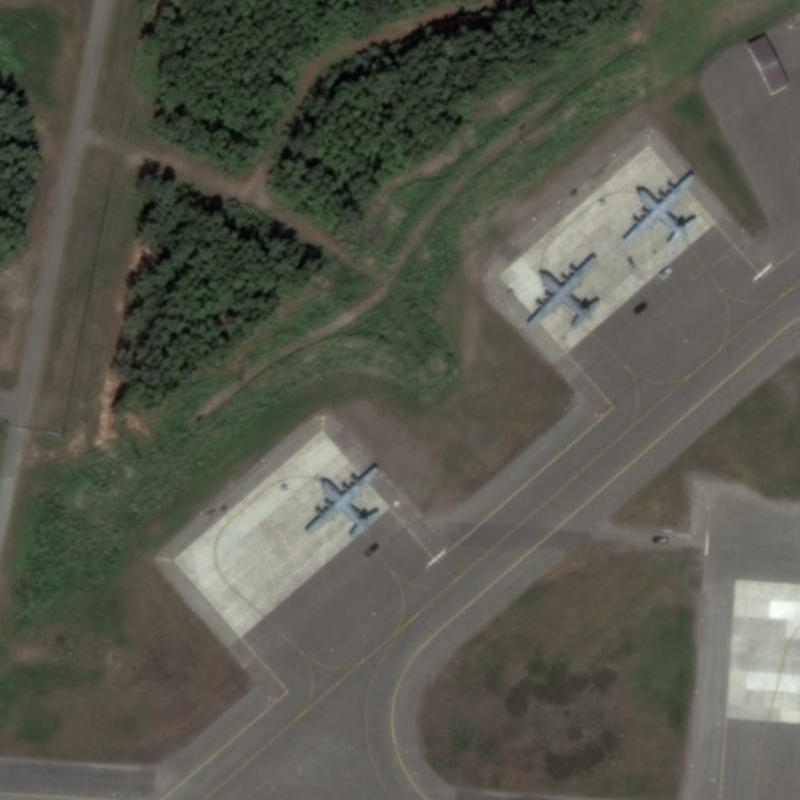A2: (613, 165, 707, 250), (519, 250, 614, 333), (302, 459, 392, 543)
